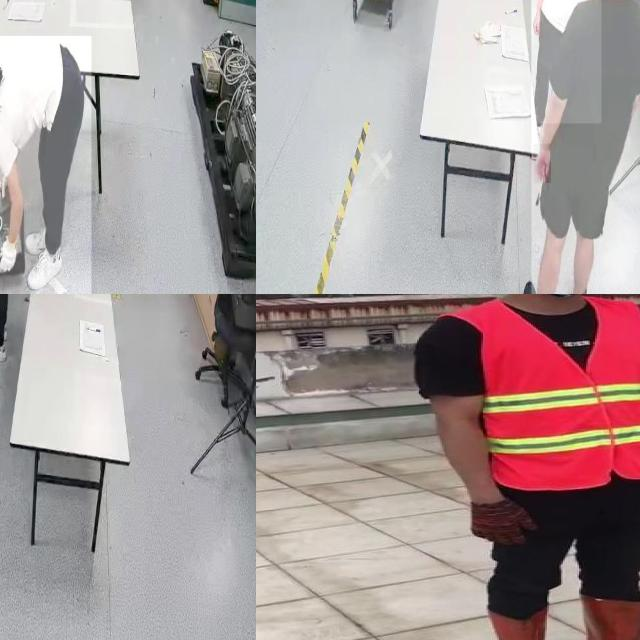boots: (483, 608, 570, 640), (581, 593, 640, 640)
hand_glove: (0, 230, 19, 276)
hand_noglove: (534, 144, 552, 184), (529, 9, 541, 35)
person: (400, 294, 640, 640), (531, 0, 640, 294), (0, 36, 92, 294), (530, 0, 601, 123)
shoes: (27, 244, 63, 290), (24, 222, 60, 256), (518, 279, 551, 294), (563, 279, 591, 294), (0, 341, 8, 365)
vest: (483, 297, 640, 490)
